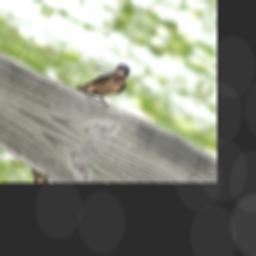Swallow: (71, 48, 136, 116)
